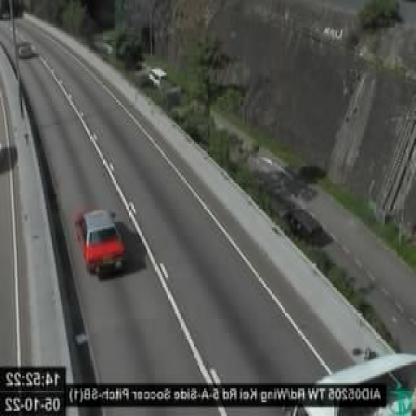Car: (74, 206, 126, 276)
